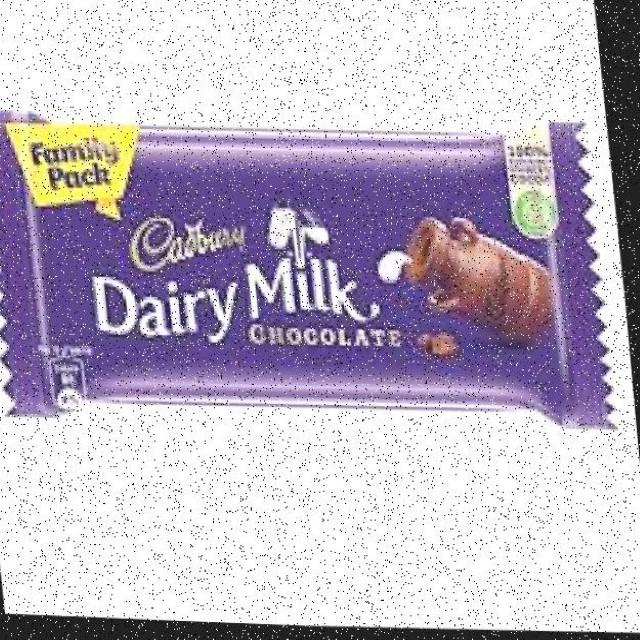cadbury_chocolate: (21, 117, 592, 428)
